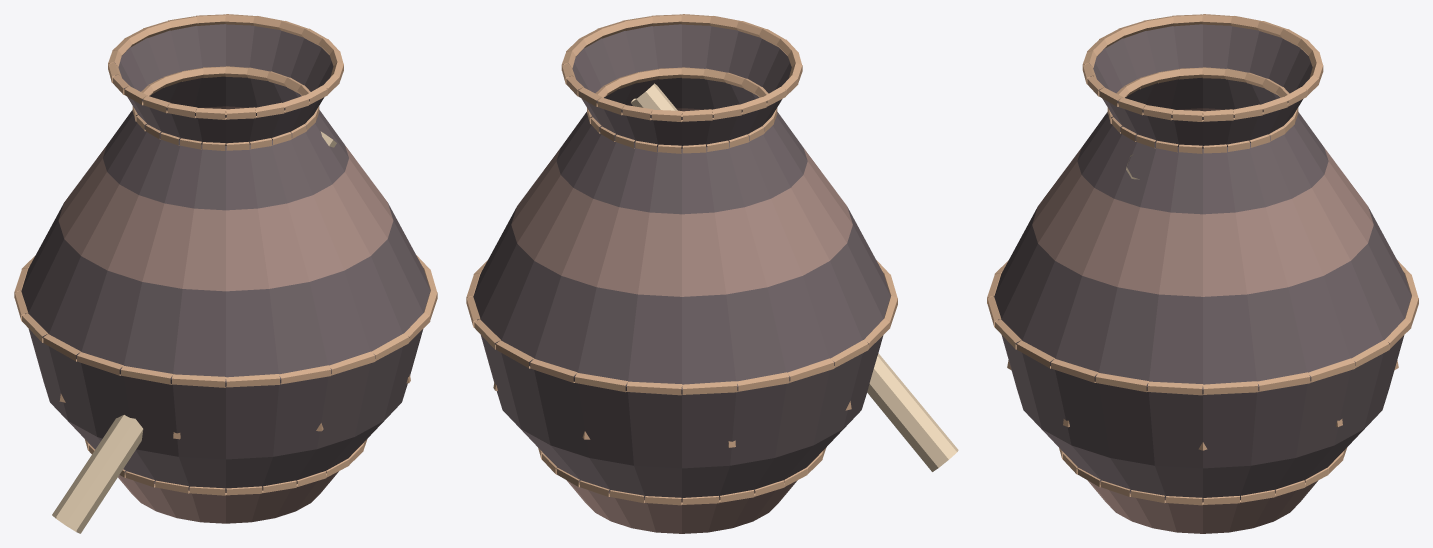
The model's file is lacquer.glb.
3 renders of one model, left to right at view 1: azimuth 30°, elevation 25°; view 2: azimuth 150°, elevation 25°; view 3: azimuth 270°, elevation 25°, orthographic. The views are drawn at different scales.
Visible parts, largest first — view 1: lacquer; view 2: lacquer; view 3: lacquer.
Part boxes in pixels (x1,y1,x2,y2): lacquer: (14, 14, 437, 533); lacquer: (466, 14, 958, 533); lacquer: (987, 14, 1418, 533).
Bounding box in the file's own units: 0.9448 × 0.9414 × 0.8593.
